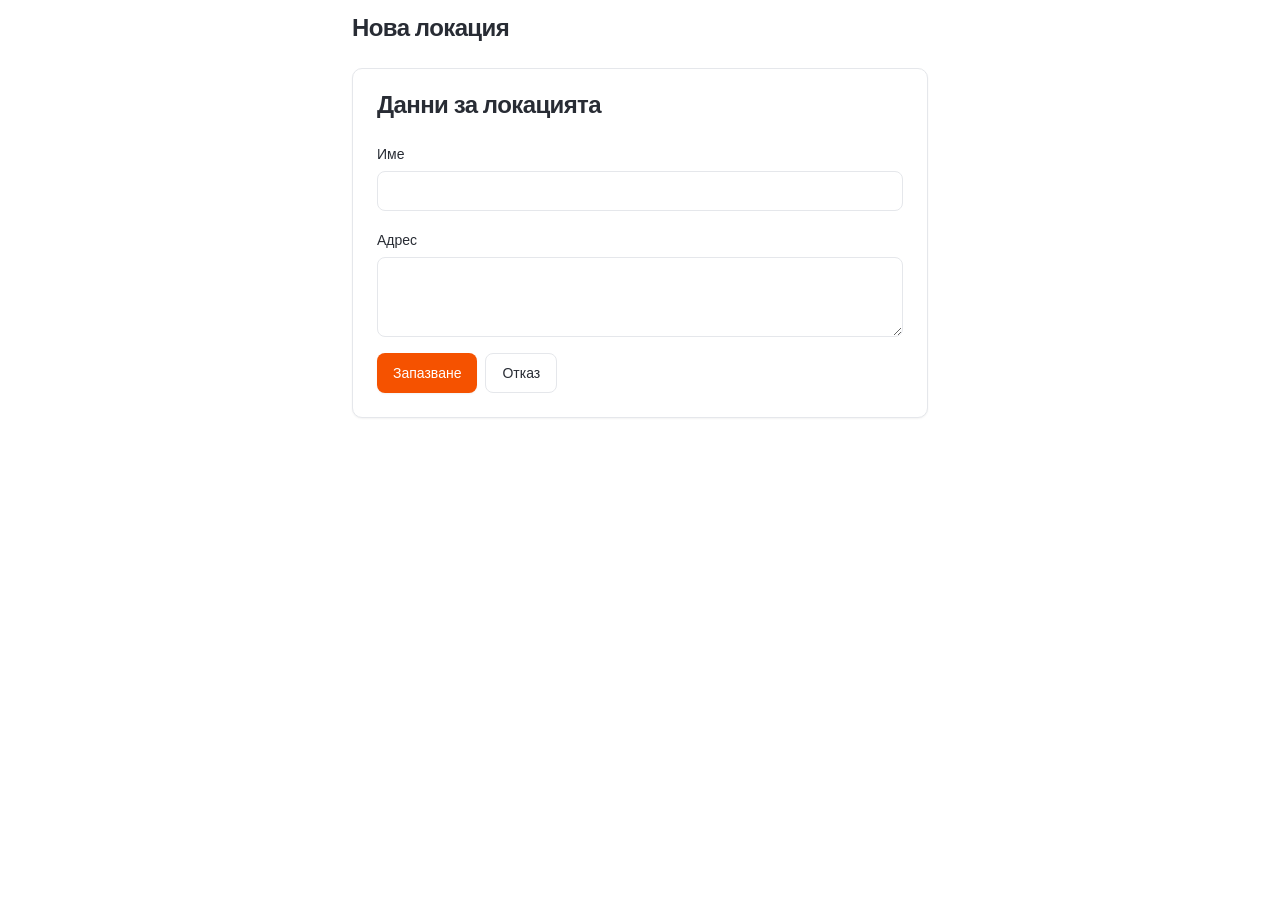
location form pages › new: submits name, omits empty address, stays put and resets
The image size is (1280, 912).
Step 1. Type "Hall B" into the field with id "name" → (640, 191), box top-left (377, 171), bottom-right (903, 211)
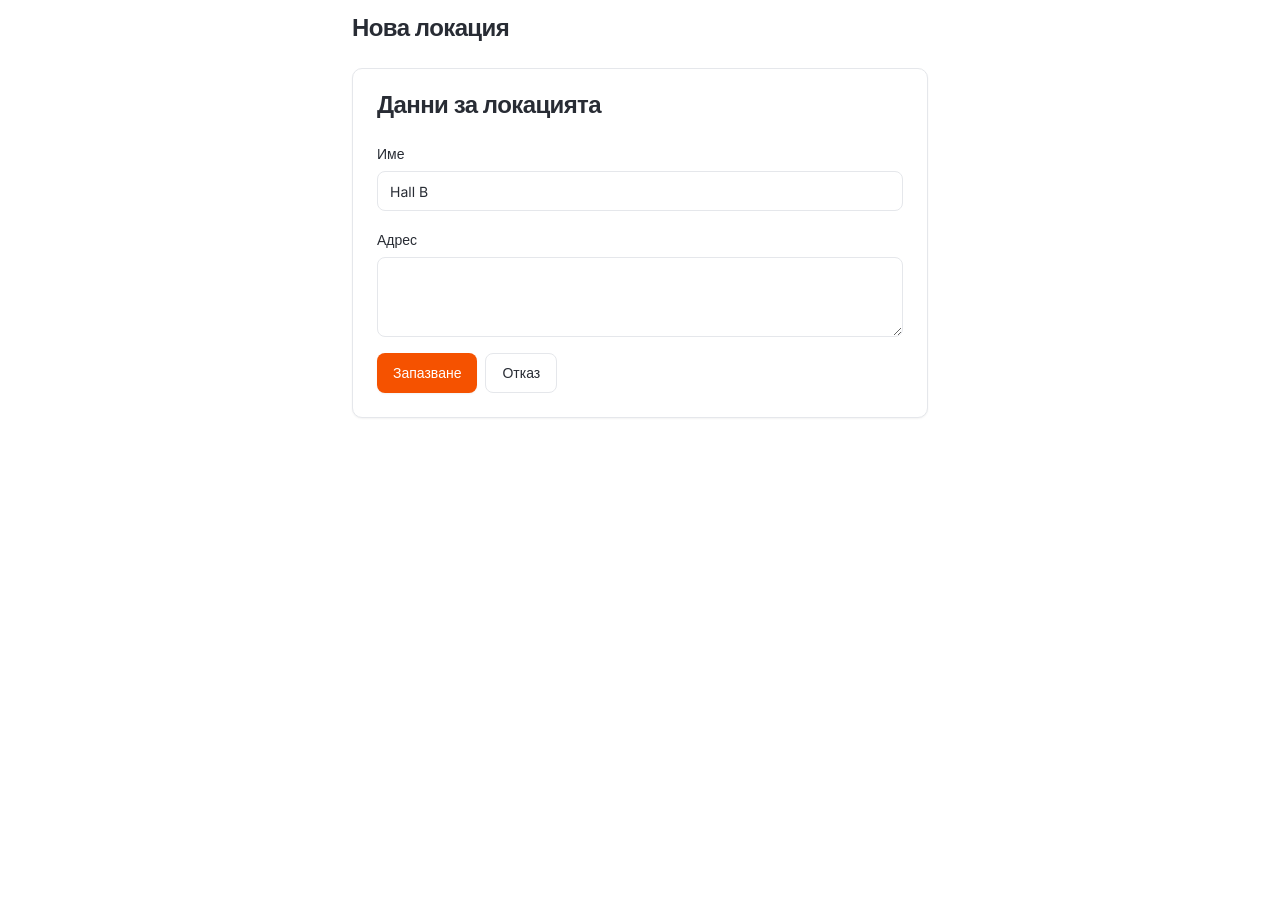
Step 2. Click the submit button → click(427, 373), box top-left (377, 353), bottom-right (478, 393)
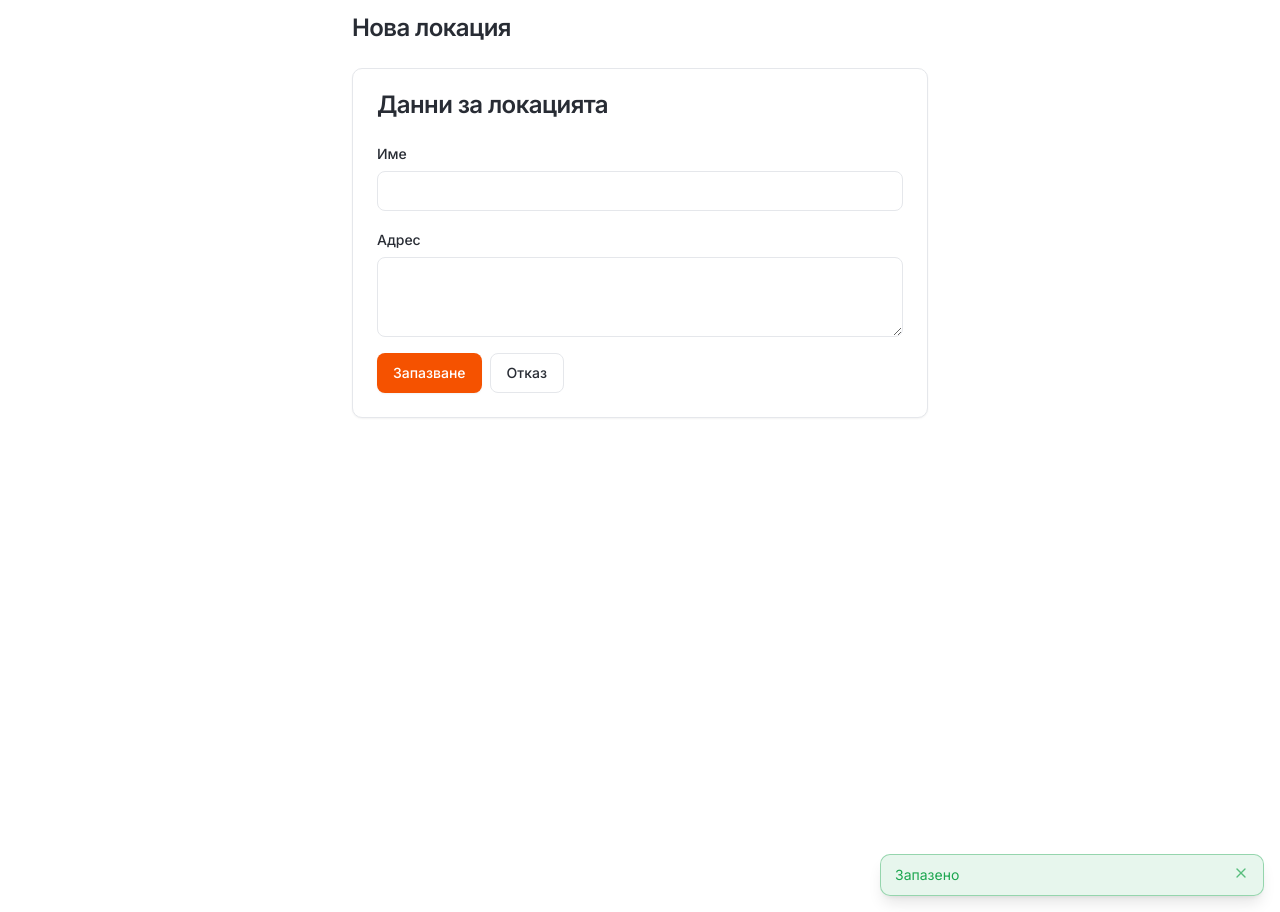
Check: the text "Запазено" is shown, box top-left (895, 866), bottom-right (959, 883)
Check: the field with id "name" is empty, box top-left (377, 171), bottom-right (903, 211)
